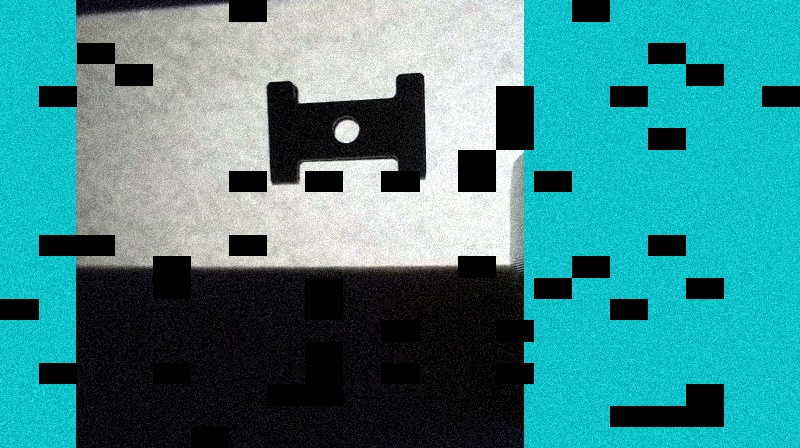O002: (262, 63, 429, 188)
